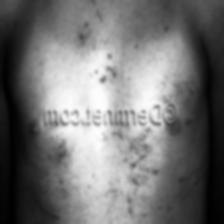Toxin: (124, 125, 160, 220), (50, 138, 78, 169)
